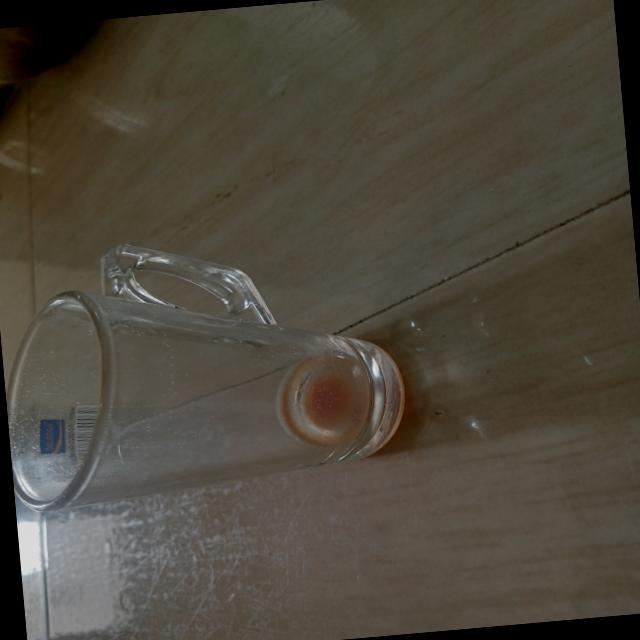glass-VX4N: (0, 220, 416, 522)
